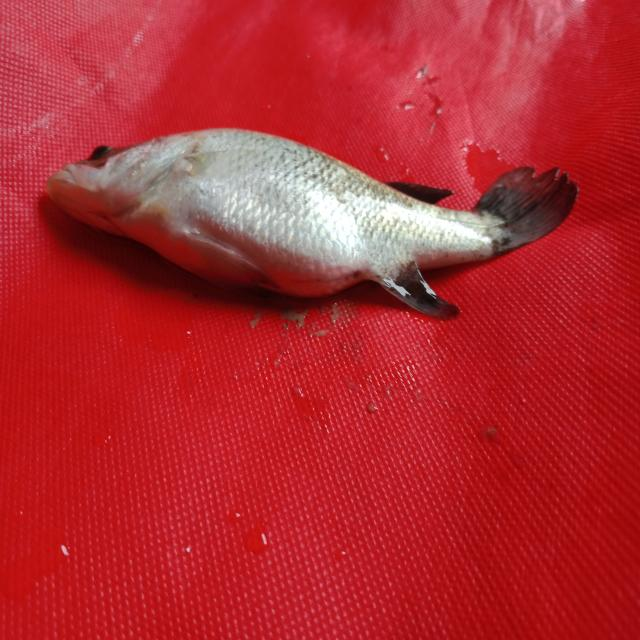ikan: (29, 102, 591, 338)
